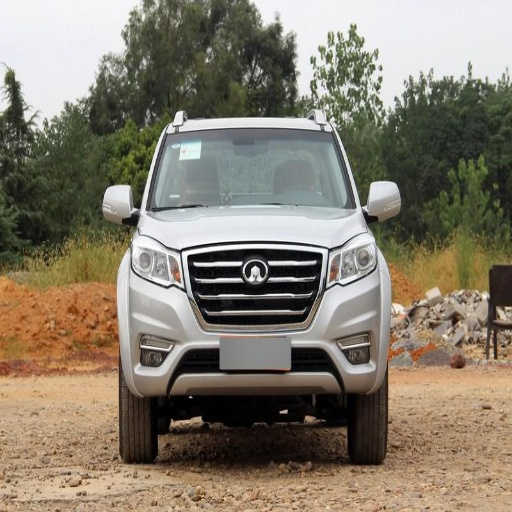front_bumper: (118, 247, 385, 395)
front_right_light: (130, 232, 182, 286)
hood: (140, 204, 363, 249)
left_mirror: (364, 180, 402, 219)
